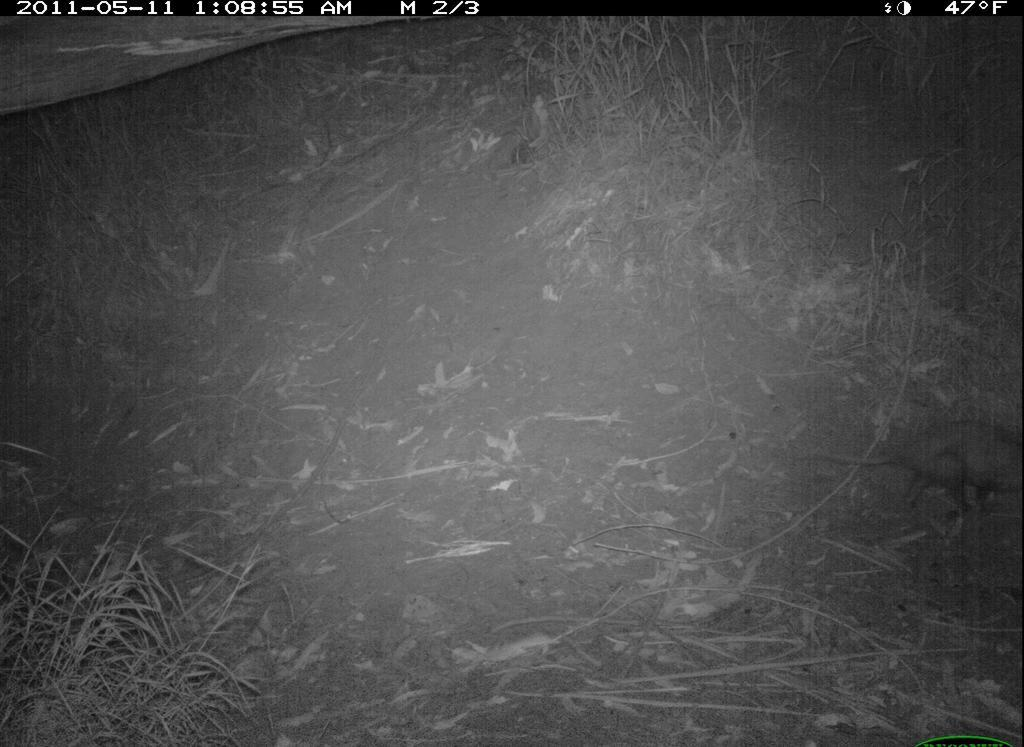opossum: (799, 404, 1023, 519)
